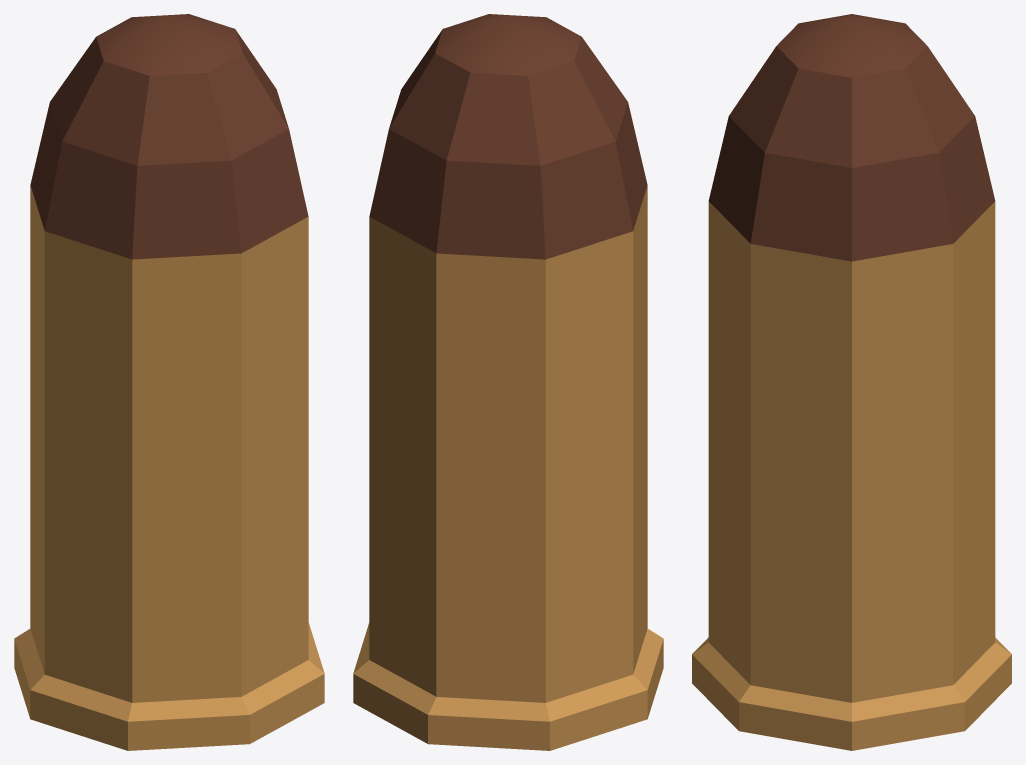
File: SM_Icon_Ammo_04.fbx
The picture shows the model from 3 angles, left to right: view 1: azimuth 30°, elevation 25°; view 2: azimuth 150°, elevation 25°; view 3: azimuth 270°, elevation 25°; orthographic projection.
Parts seen in each view (by area): view 1: SM_Icon_Ammo_04; view 2: SM_Icon_Ammo_04; view 3: SM_Icon_Ammo_04.
Part boxes in pixels (<box>): SM_Icon_Ammo_04: <box>14,14,324,750</box>; SM_Icon_Ammo_04: <box>353,14,663,750</box>; SM_Icon_Ammo_04: <box>692,14,1011,750</box>.
Bounding box in the file's own units: 22.32 × 51.27 × 22.32.
